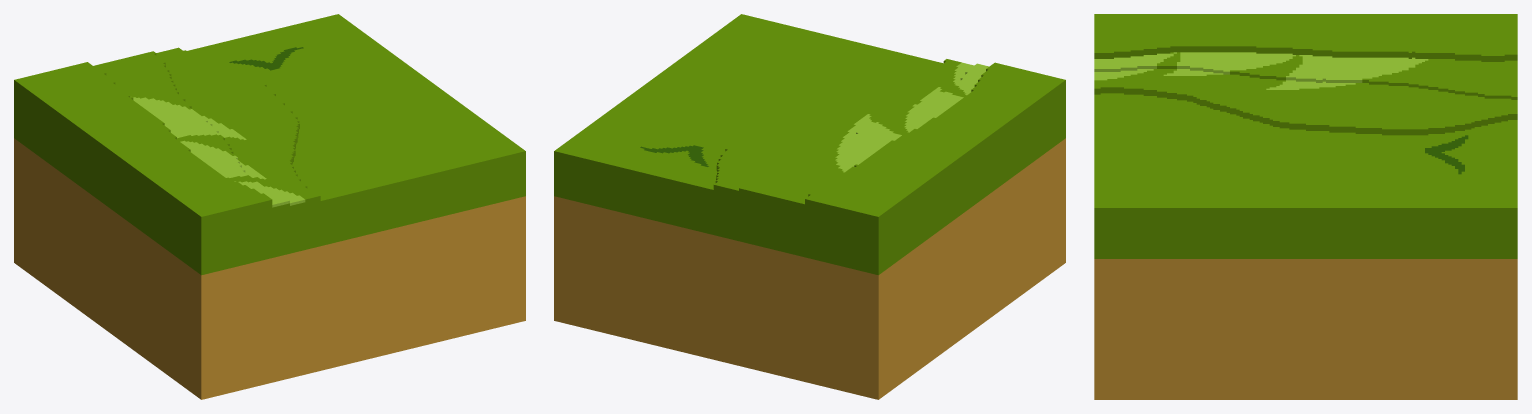
The picture shows the model from 3 angles, left to right: view 1: azimuth 30°, elevation 25°; view 2: azimuth 150°, elevation 25°; view 3: azimuth 270°, elevation 25°; orthographic projection. The views are drawn at different scales.
Visible parts, largest first — view 1: 16H; view 2: 16H; view 3: 16H.
Part boxes in pixels (x1=…): 16H: x1=14, y1=14, x2=525, y2=399; 16H: x1=554, y1=14, x2=1065, y2=399; 16H: x1=1094, y1=14, x2=1517, y2=399.
Bounding box in the file's own units: 12.8 × 6.9 × 12.8.
Materials: 1 (1 with a texture image).
